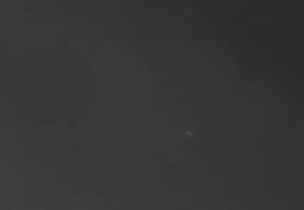Target: (187, 132, 190, 135)
